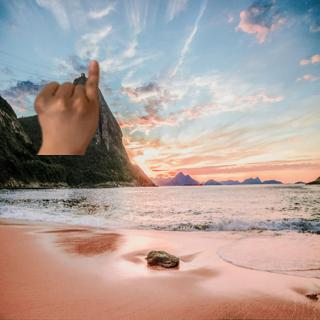FINE: (32, 59, 105, 151)
